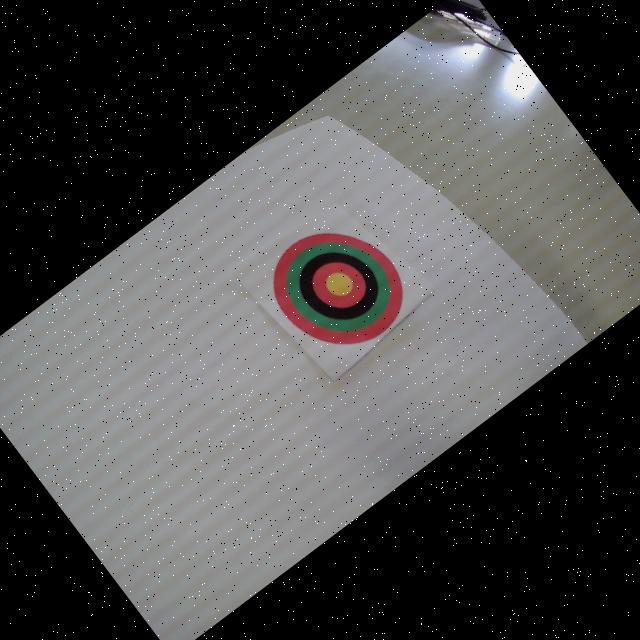COGNITIVE: (253, 202, 424, 375)
